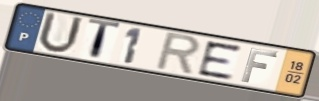1: (123, 27, 144, 67)
E: (196, 39, 244, 81)
F: (239, 46, 281, 84)
R: (152, 31, 203, 78)
T: (86, 17, 123, 63)
U: (35, 10, 86, 55)
